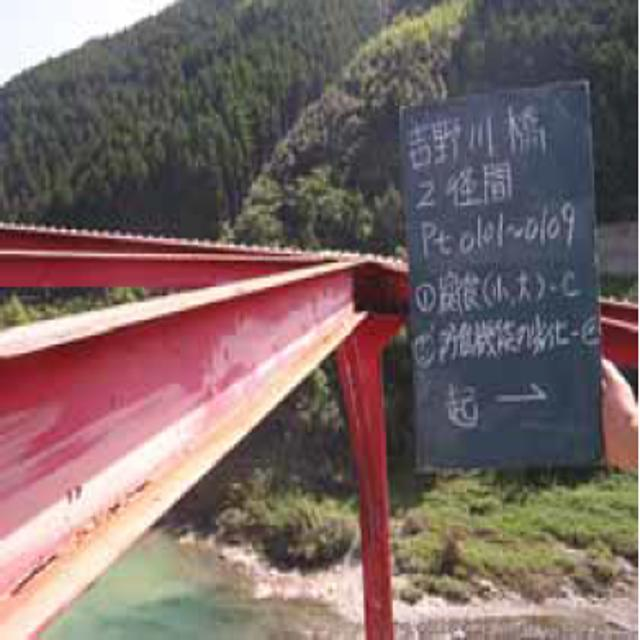corrosion: (14, 436, 176, 617)
